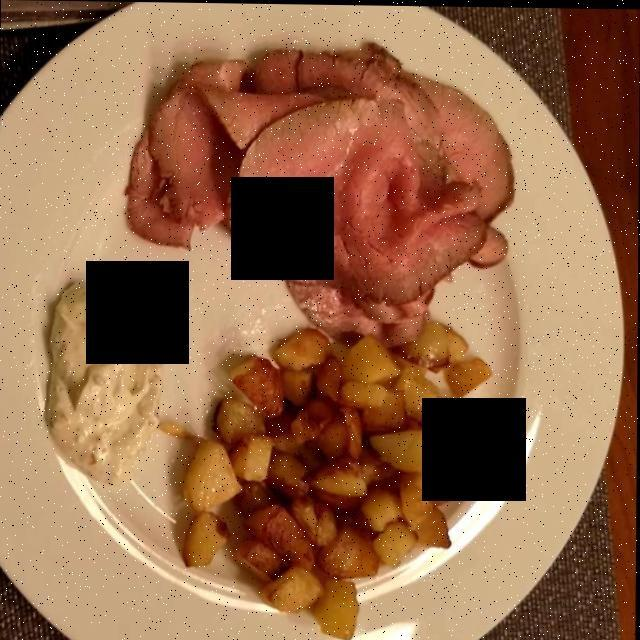beef: (114, 44, 506, 326)
fries: (167, 313, 483, 638)
tartar-sauce: (45, 285, 160, 479)
